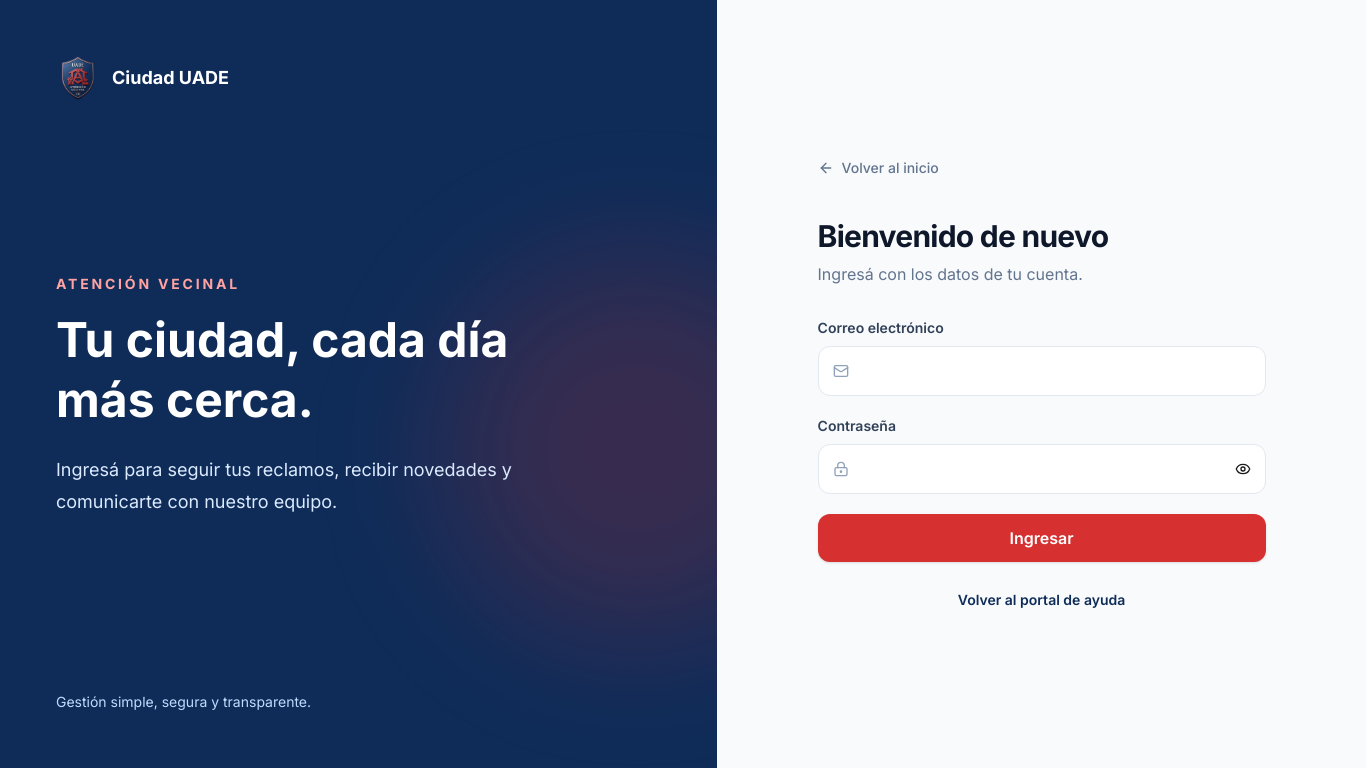
Test: LoginPage › muestra el error del servidor o uno genérico y deshabilita mientras procesa
Later steps or results of the test are not shown.
Type "a@b.c" into the field labelled "Correo electrónico" at [1056, 371], box [861, 347, 1251, 395]
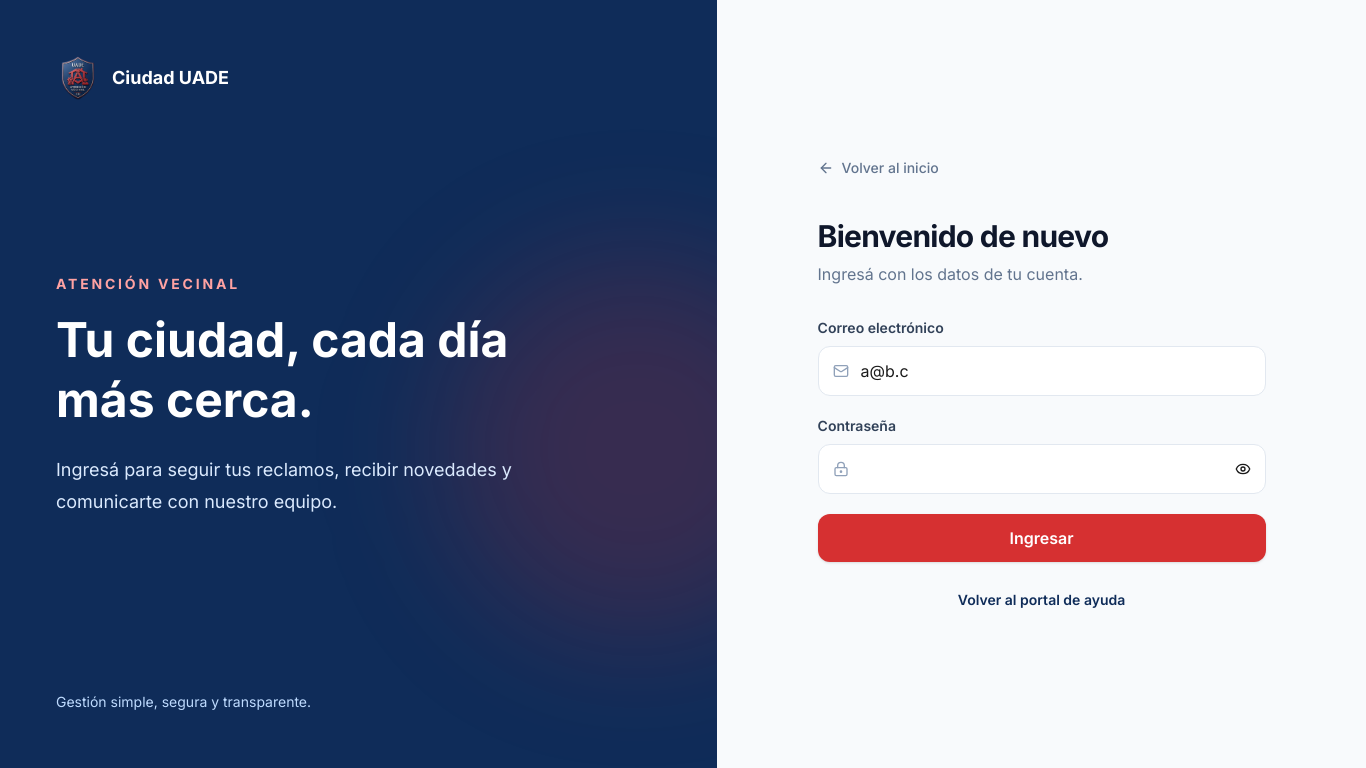
Type "secreta" into the password field labelled "Contraseña" at [1042, 469], box [861, 445, 1223, 493]
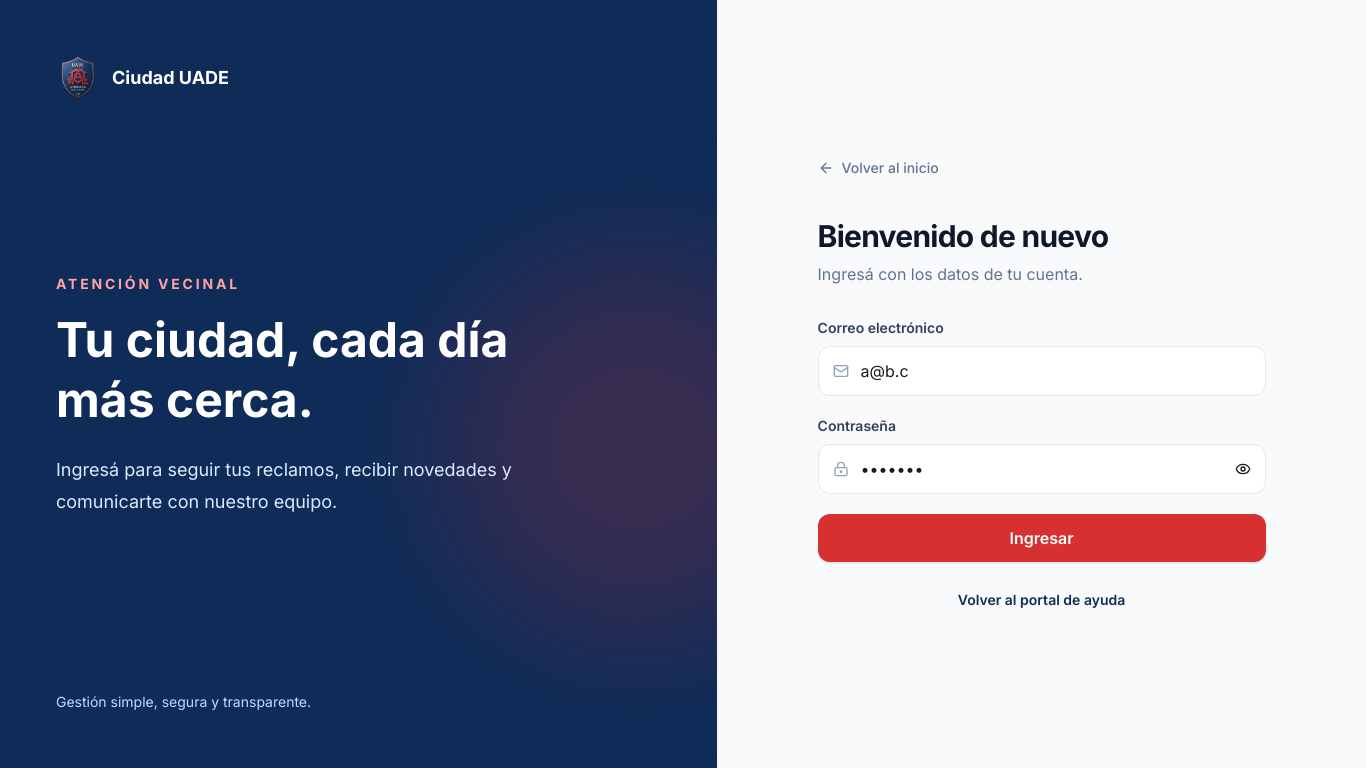
Click the button "Ingresar" at [1042, 538], box [818, 514, 1266, 562]
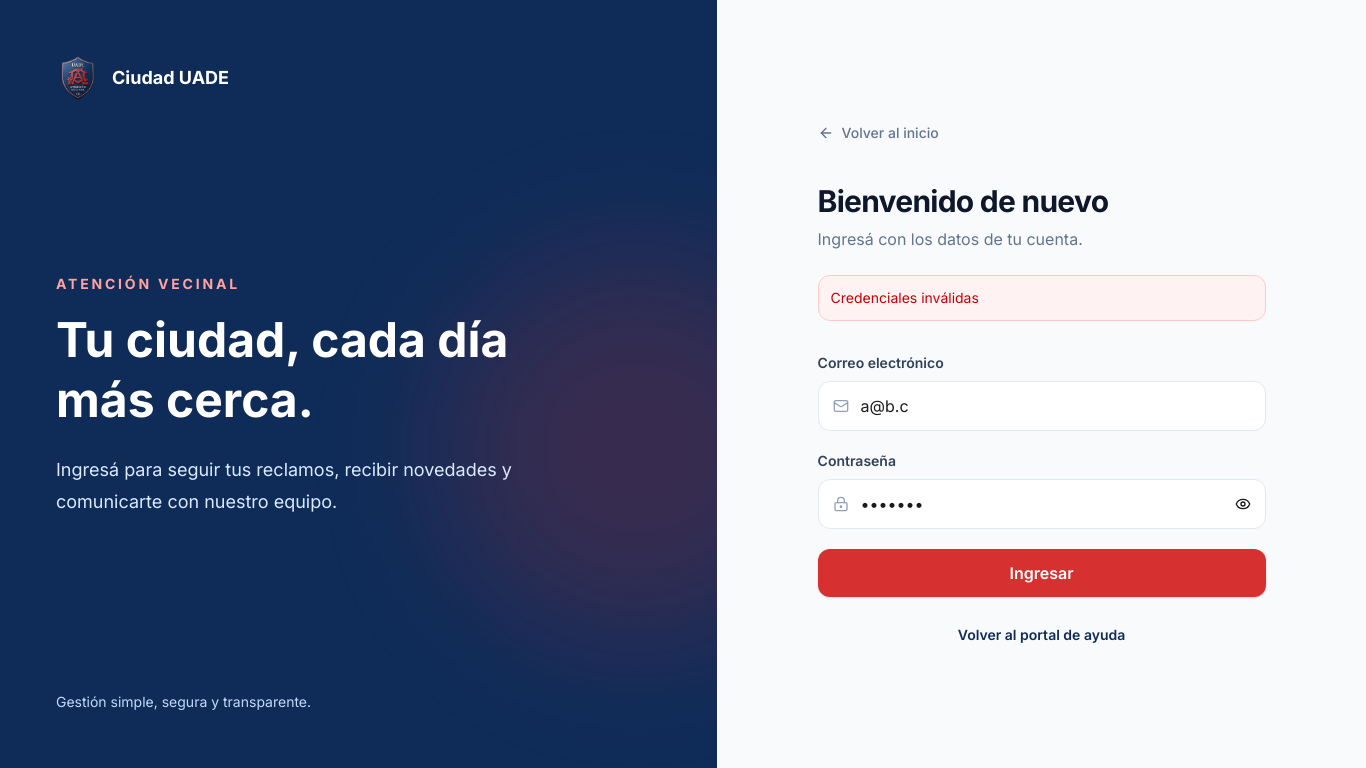
Expected: the message reads "Credenciales inválidas", [831, 289, 979, 306]
Click the button "Ingresar" at [1042, 573], box [818, 549, 1266, 597]
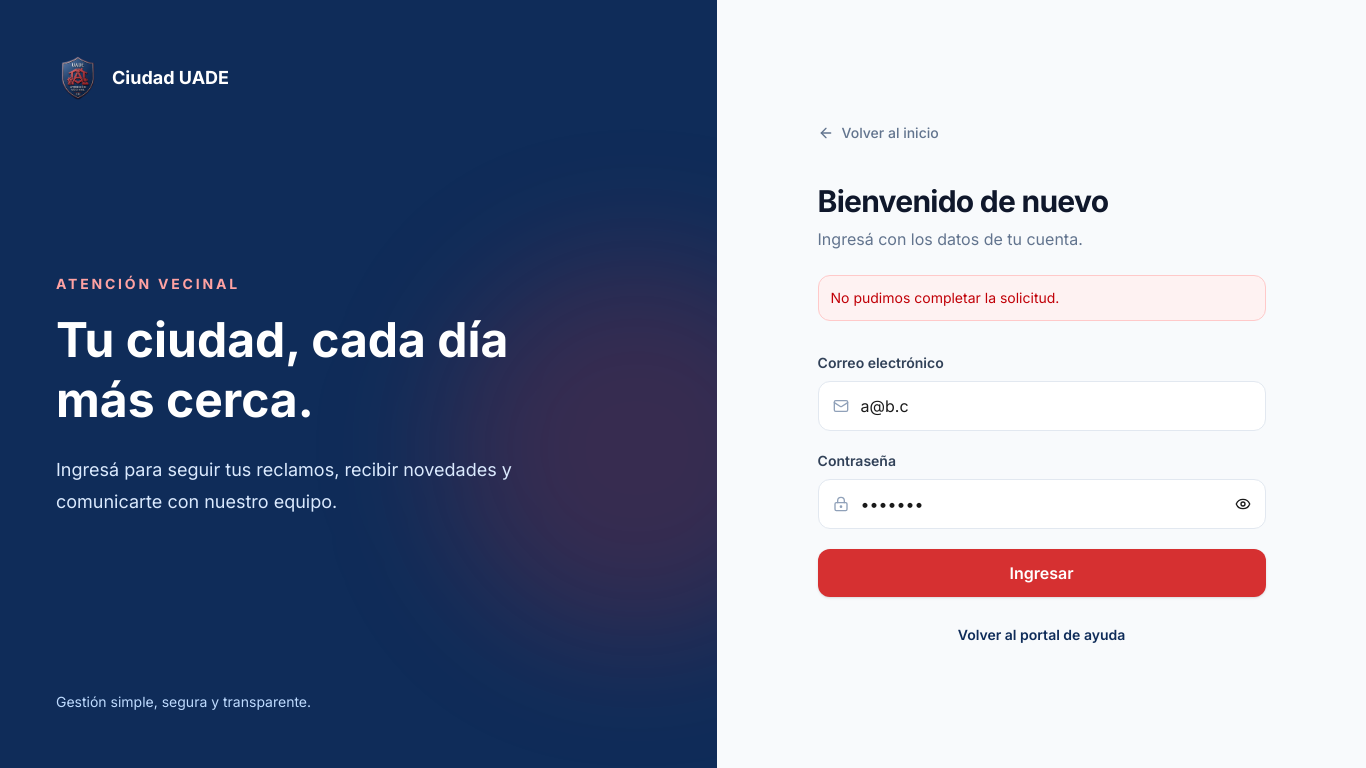
Expected: the message reads "No pudimos completar la solicitud.", [831, 289, 1059, 306]
